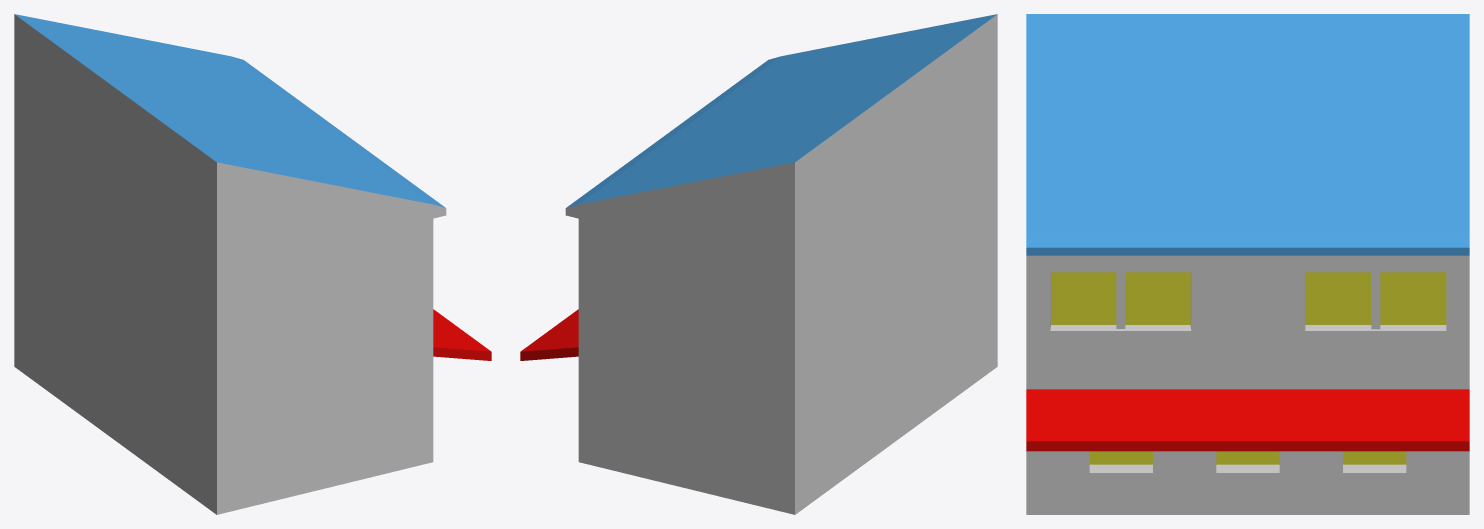
File: housev1.fbx
3 views of the same model, side by side, from view 1: azimuth 30°, elevation 25°; view 2: azimuth 150°, elevation 25°; view 3: azimuth 270°, elevation 25° (orthographic). The views are drawn at different scales.
Parts seen in each view (by area): view 1: Cube; view 2: Cube; view 3: Cube.
Part boxes in pixels (x1,y1,x2,y2): Cube: (14, 14, 491, 514); Cube: (520, 14, 997, 514); Cube: (1026, 14, 1469, 514).
Bounding box in the file's own units: 940 × 1152 × 1200.
